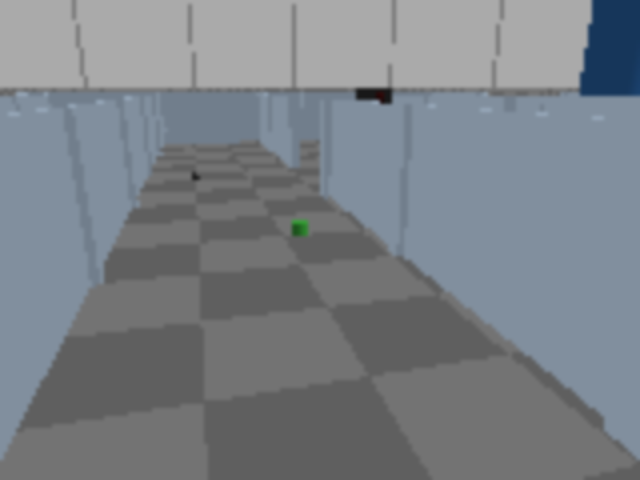puck: (292, 219, 308, 237)
